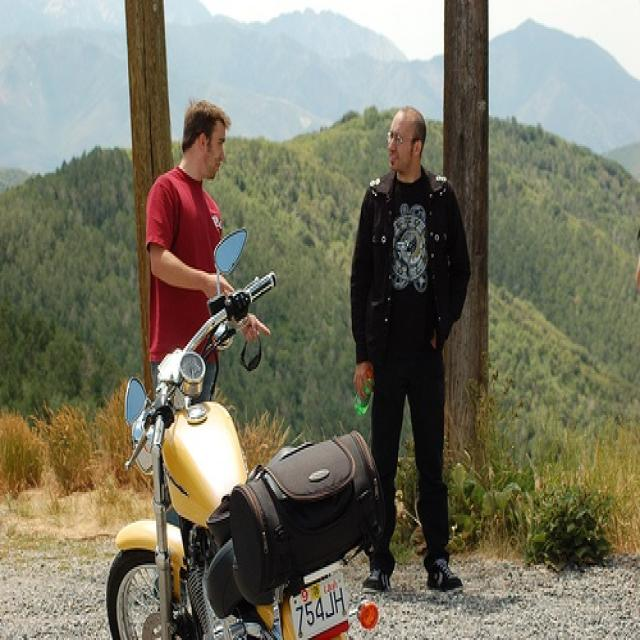motorbike: (105, 231, 380, 636)
